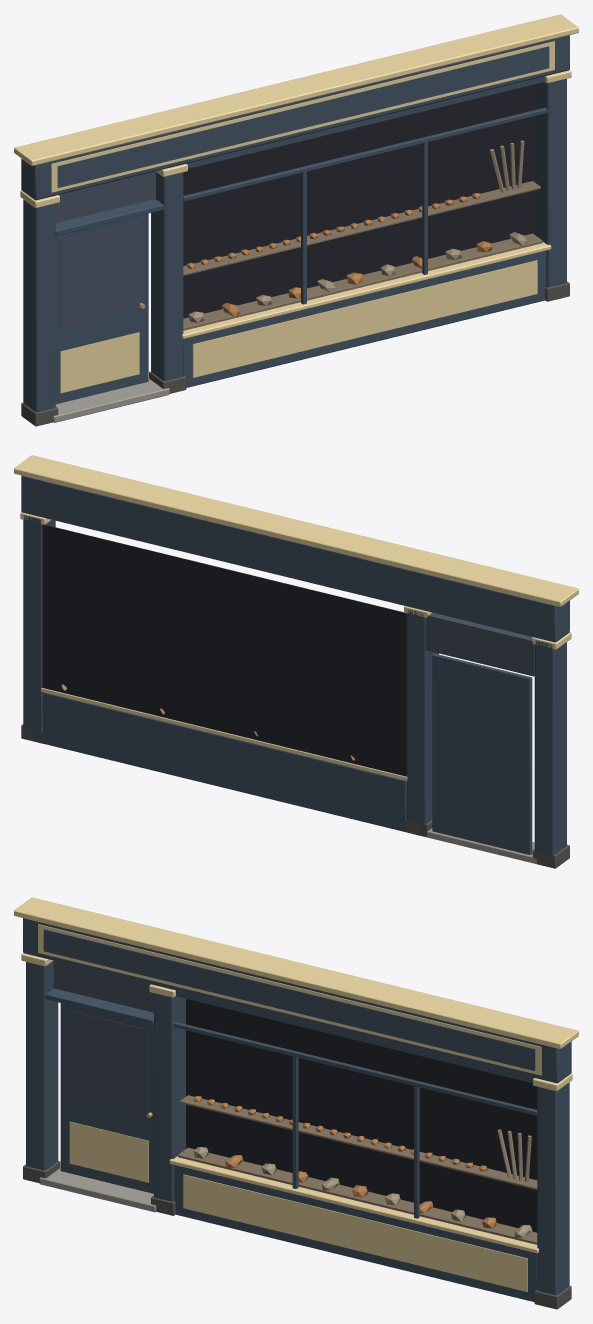
File: bakery_shopfront.fbx
The picture shows the model from 3 angles, top to bottom: view 1: azimuth 30°, elevation 25°; view 2: azimuth 150°, elevation 25°; view 3: azimuth 330°, elevation 25°; orthographic projection.
Parts seen in each view (by area): view 1: bakery_shopfront; view 2: bakery_shopfront; view 3: bakery_shopfront.
Boxes of the visible parts, box(x1,y1,x2,y2) form: bakery_shopfront: box(14, 14, 578, 426); bakery_shopfront: box(14, 455, 578, 868); bakery_shopfront: box(14, 897, 578, 1309).
Size of the model in its own units: 6.85 by 0.4055 by 3.22.
